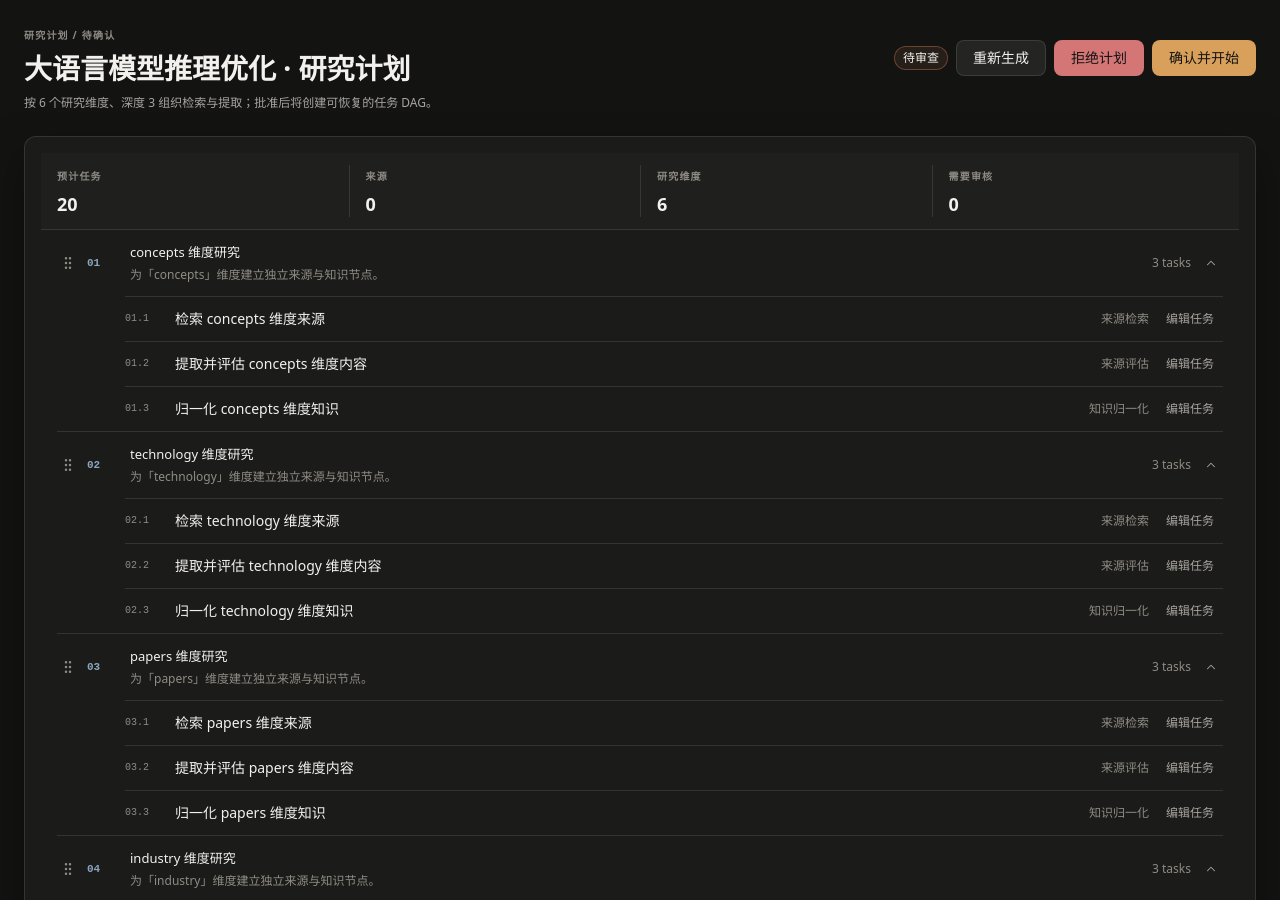
Test: PlanPage plan-review interactions (desktop-wired commands) › edits a draft task's title and description through the dialog
Expected: the button "拒绝计划" is shown, [1054,40,1144,76]
Expected: the text "检索 concepts 维度来源" is shown, [175,309,325,328]
Click the button "编辑任务" in the row of "检索 concepts 维度来源" at (1190, 319), box [1157,305,1223,333]
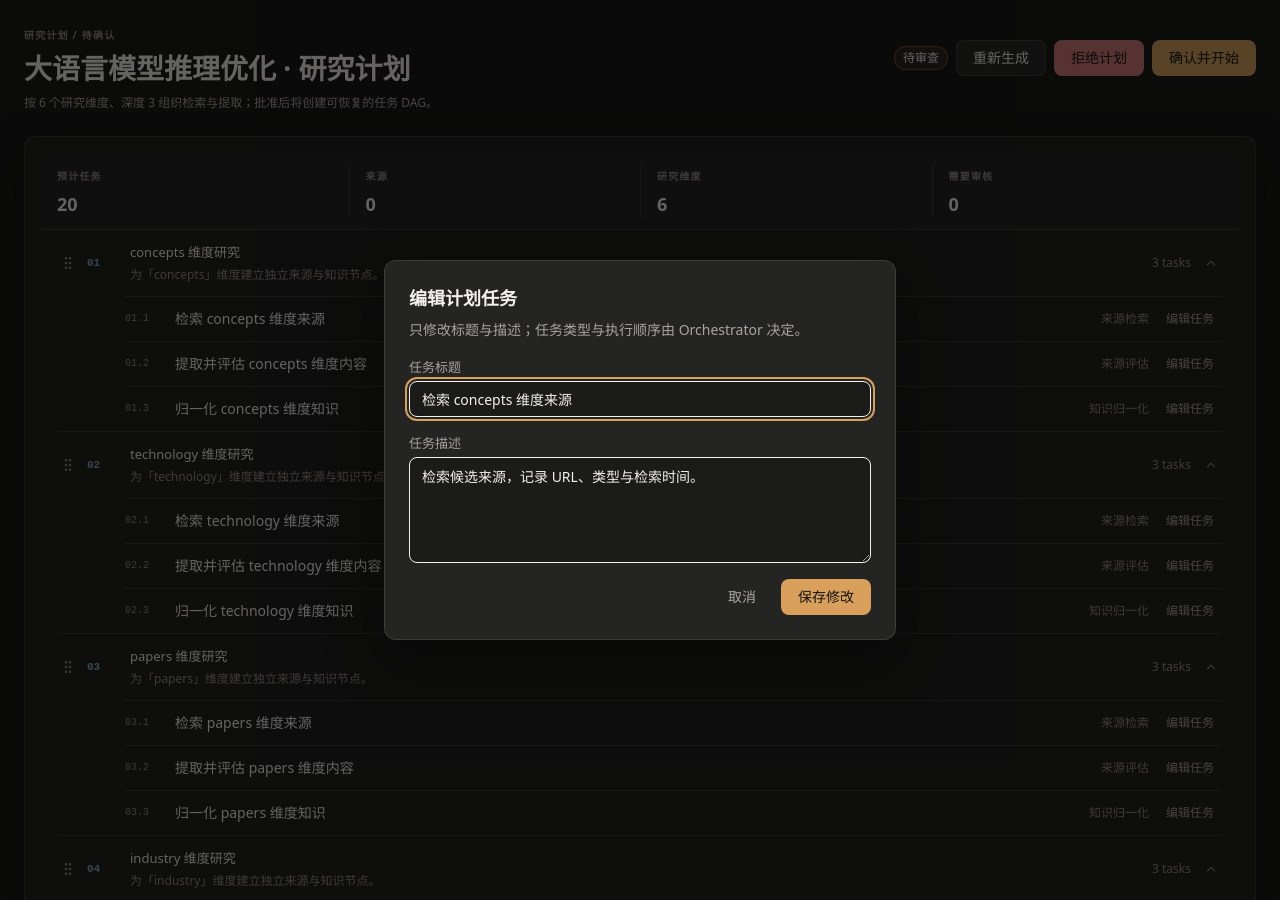
Now the field labelled "任务标题" holds "检索 concepts 维度来源"
Replace the text in the field labelled "任务标题" with "聚焦量化方案的检索" at (640, 399), box [409,381,871,417]
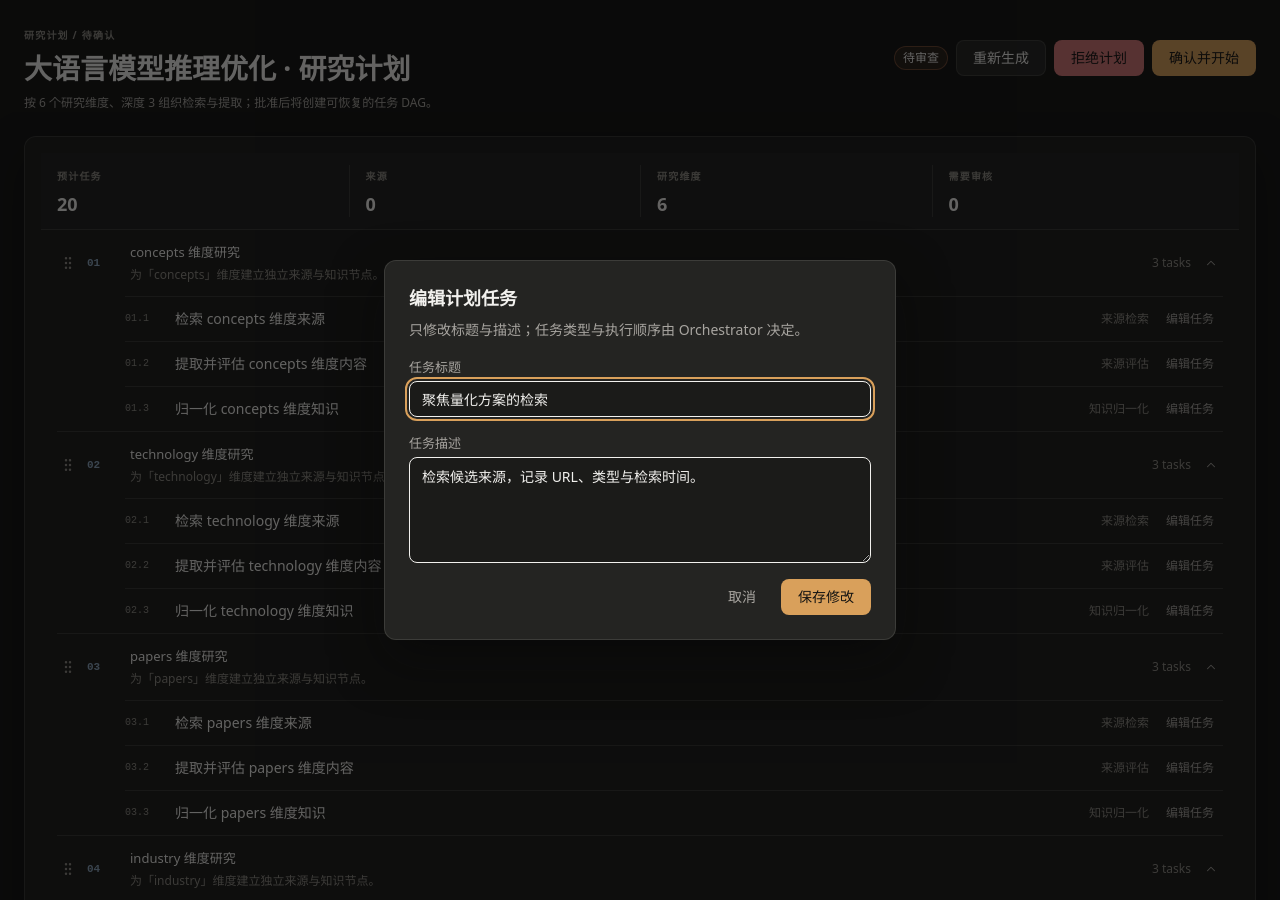
Replace the text in the text box labelled "任务描述" with "只检索量化相关的来源。" at (640, 510), box [409,457,871,563]
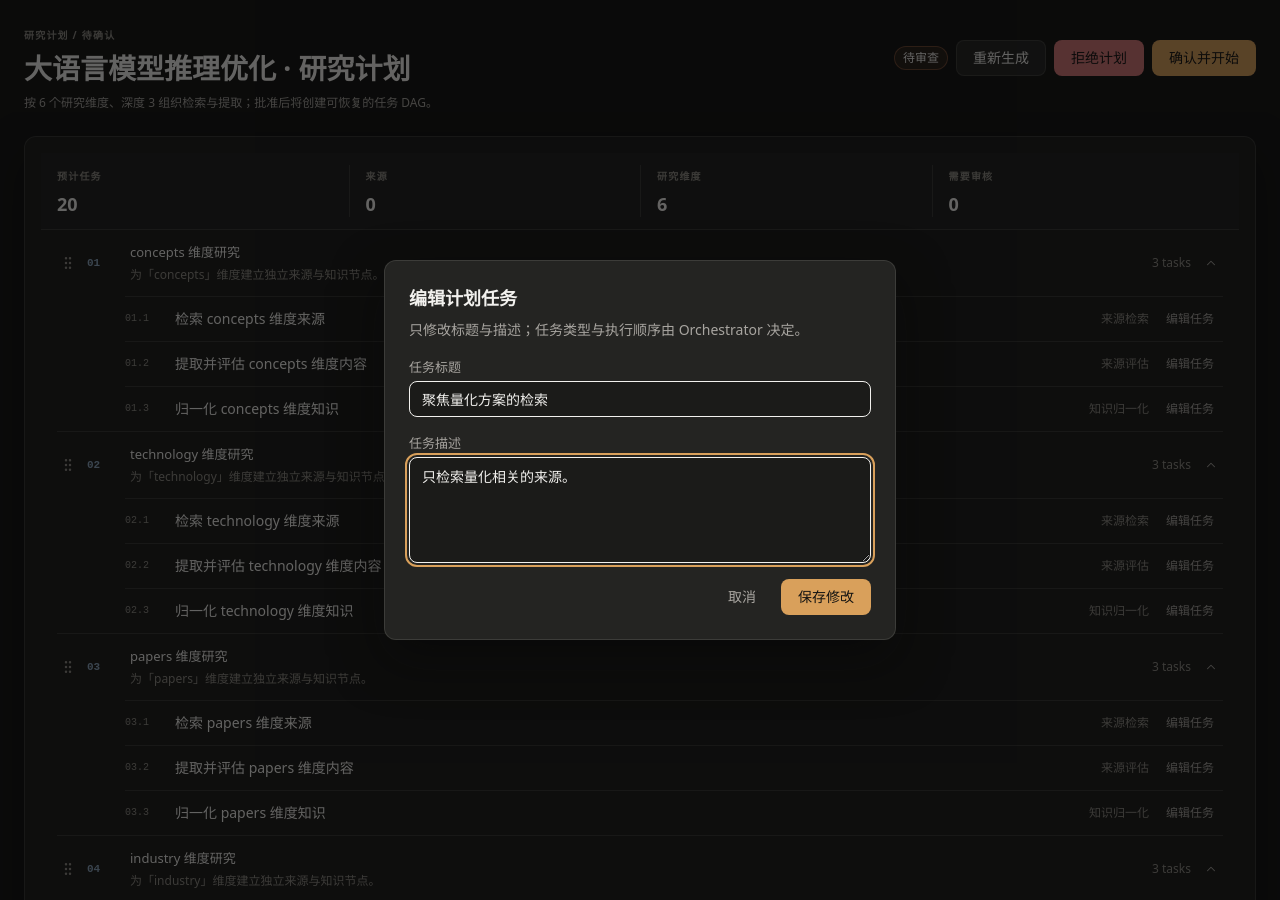
Click the button "保存修改" at (826, 597), box [781,579,871,615]
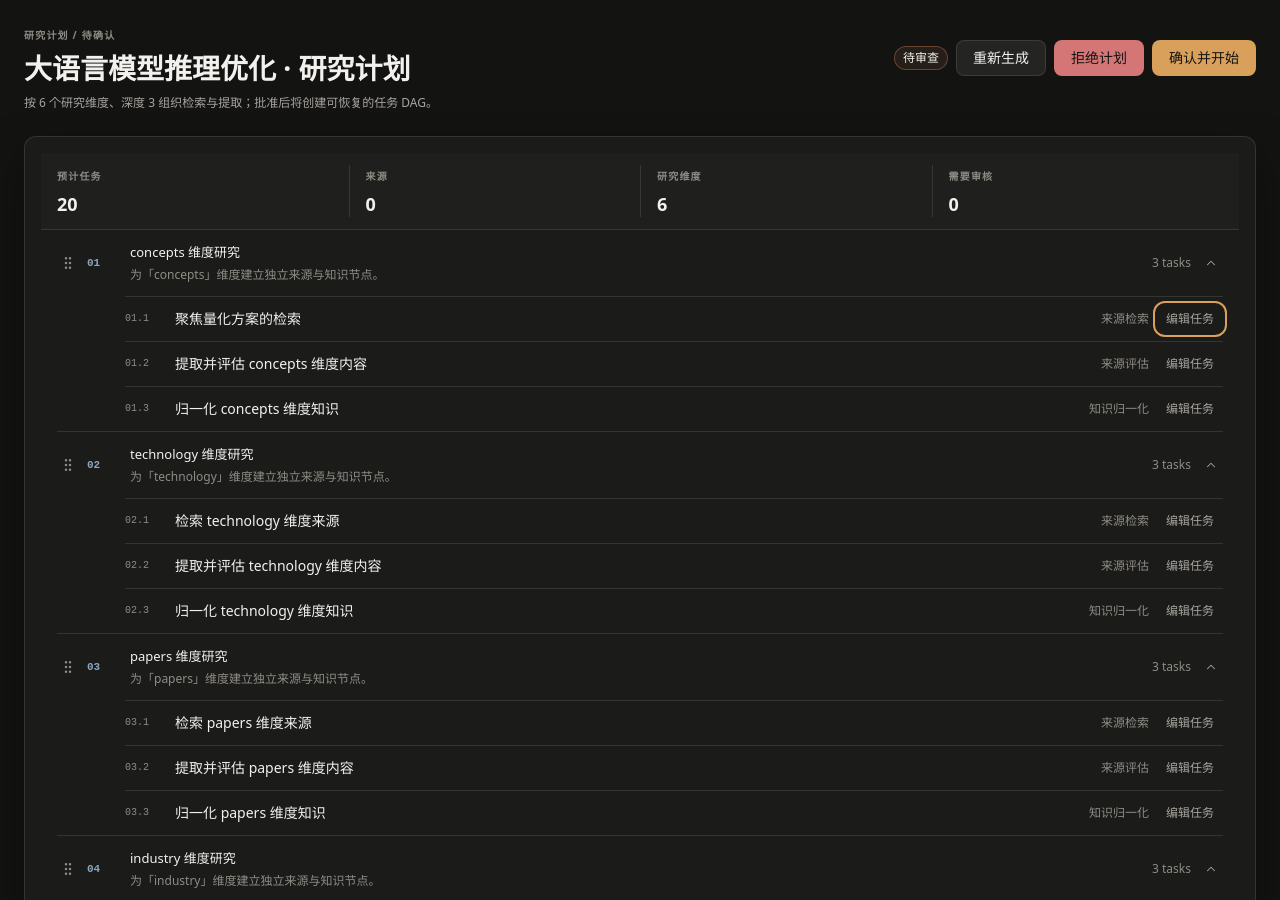
Now the text "聚焦量化方案的检索" is shown, box [175,309,301,328]
Now the text "检索 concepts 维度来源" is gone
